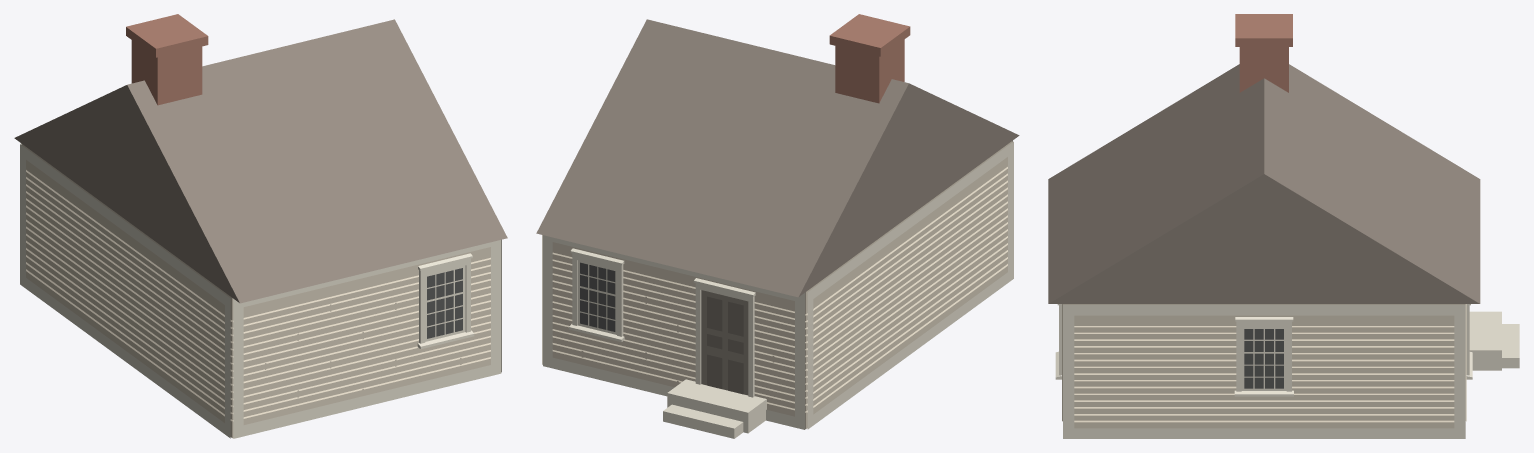
Rendered from recon_1835_blk_indiana_north_wolcott_d3_01__inferred_1835.glb.
3 renders of one model, left to right at view 1: azimuth 30°, elevation 25°; view 2: azimuth 150°, elevation 25°; view 3: azimuth 270°, elevation 25°, orthographic. The views are drawn at different scales.
Visible parts, largest first — view 1: recon_1835_blk_indiana_north_wolcott_d3_01__inferred_1835; view 2: recon_1835_blk_indiana_north_wolcott_d3_01__inferred_1835; view 3: recon_1835_blk_indiana_north_wolcott_d3_01__inferred_1835.
Part boxes in pixels (<box>): recon_1835_blk_indiana_north_wolcott_d3_01__inferred_1835: <box>14,14,507,438</box>; recon_1835_blk_indiana_north_wolcott_d3_01__inferred_1835: <box>536,14,1019,438</box>; recon_1835_blk_indiana_north_wolcott_d3_01__inferred_1835: <box>1048,14,1519,438</box>.
Bounding box in the file's own units: 5.18 × 5.73 × 8.01.
